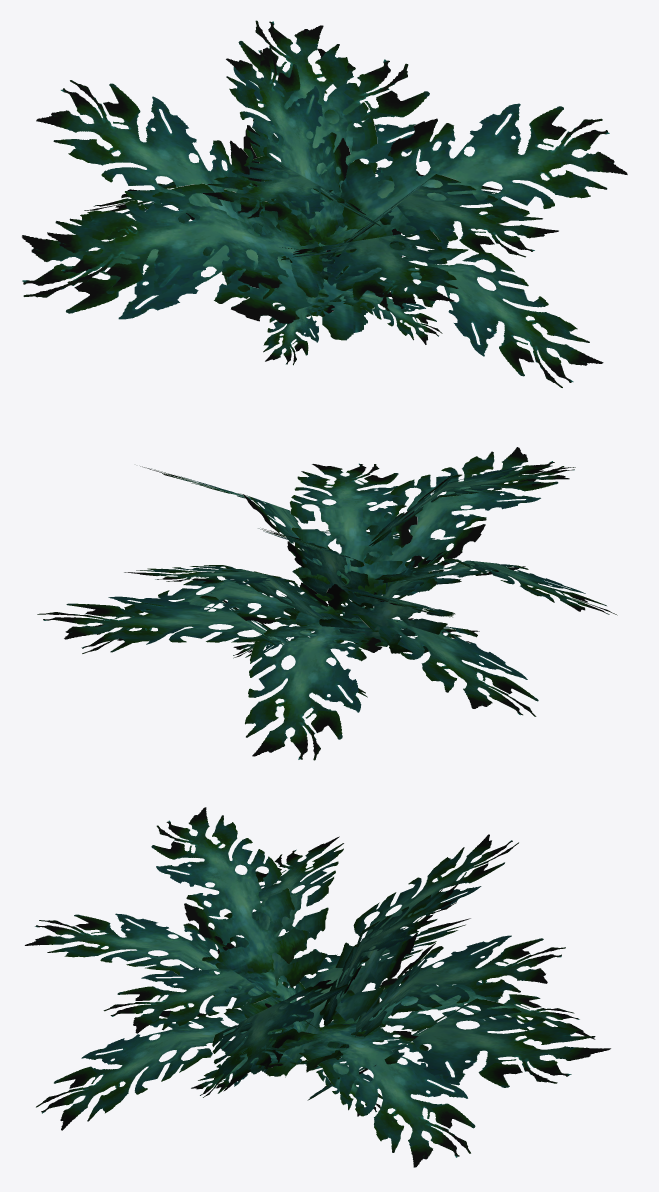
Rendered from Yland2_zb_15 Yland2.FBX.
3 renders of one model, top to bottom at view 1: azimuth 30°, elevation 25°; view 2: azimuth 150°, elevation 25°; view 3: azimuth 270°, elevation 25°, orthographic. The views are drawn at different scales.
Visible parts, largest first — view 1: Yland2_zb_15 Yland2; view 2: Yland2_zb_15 Yland2; view 3: Yland2_zb_15 Yland2.
Boxes of the visible parts, x1,y1,x2,y2 form: Yland2_zb_15 Yland2: (21, 20, 627, 387); Yland2_zb_15 Yland2: (37, 447, 617, 760); Yland2_zb_15 Yland2: (24, 807, 611, 1167).
Bounding box in the file's own units: 2.38 × 1.04 × 2.55.
